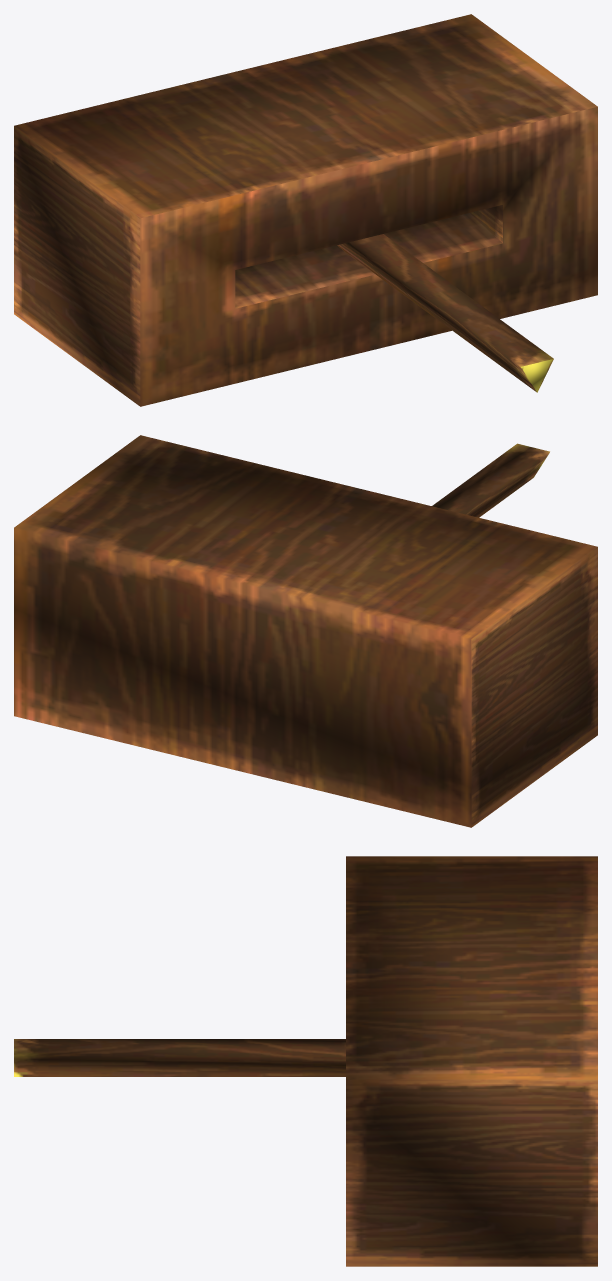
Rendered from INST_SWORDLIGHT_SWITCHA.fbx.
3 views of the same model, one above another, from view 1: azimuth 30°, elevation 25°; view 2: azimuth 150°, elevation 25°; view 3: azimuth 270°, elevation 25° (orthographic).
Parts seen in each view (by area): view 1: INST_SWORDLIGHT_SWITCHA; view 2: INST_SWORDLIGHT_SWITCHA; view 3: INST_SWORDLIGHT_SWITCHA.
Part boxes in pixels (x1,y1,x2,y2): INST_SWORDLIGHT_SWITCHA: (14,14,597,406); INST_SWORDLIGHT_SWITCHA: (14,435,597,827); INST_SWORDLIGHT_SWITCHA: (14,856,597,1266).
Bounding box in the file's own units: 6876 × 2707 × 7623.
Materials: 1 (1 with a texture image).
